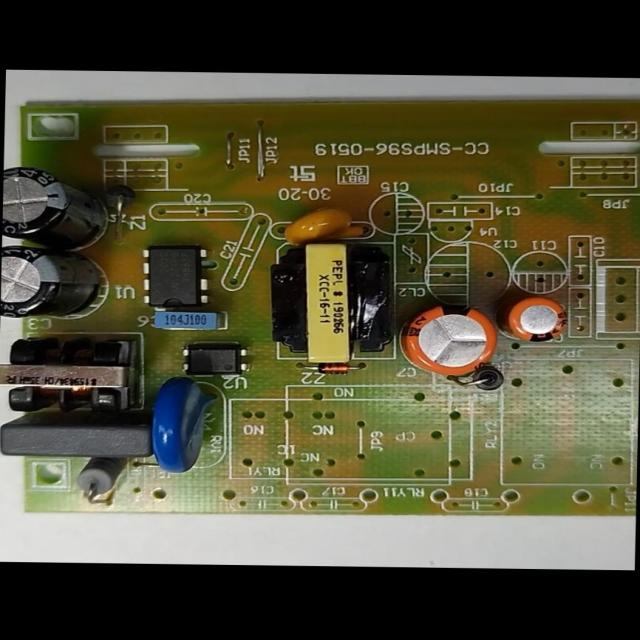Cap1: (392, 293, 502, 386)
Cap2: (492, 284, 574, 358)
Cap3: (0, 241, 115, 333)
Cap4: (2, 157, 121, 253)
MOSFET: (135, 238, 218, 316)
Mov: (142, 369, 226, 481)
Resistor: (68, 451, 135, 505)
Transformer: (256, 235, 394, 366), (0, 328, 146, 415)
